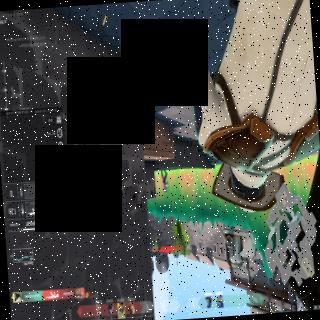ENEMY-BODY: (160, 170, 168, 192)
